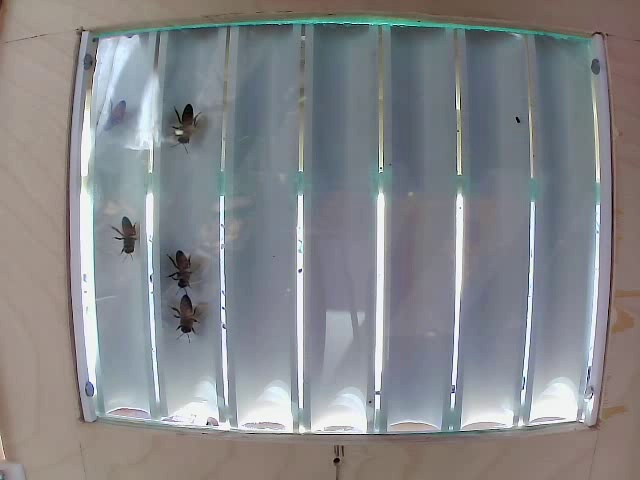bee: (103, 207, 144, 262), (165, 95, 207, 142), (173, 294, 211, 342), (164, 254, 199, 300)
